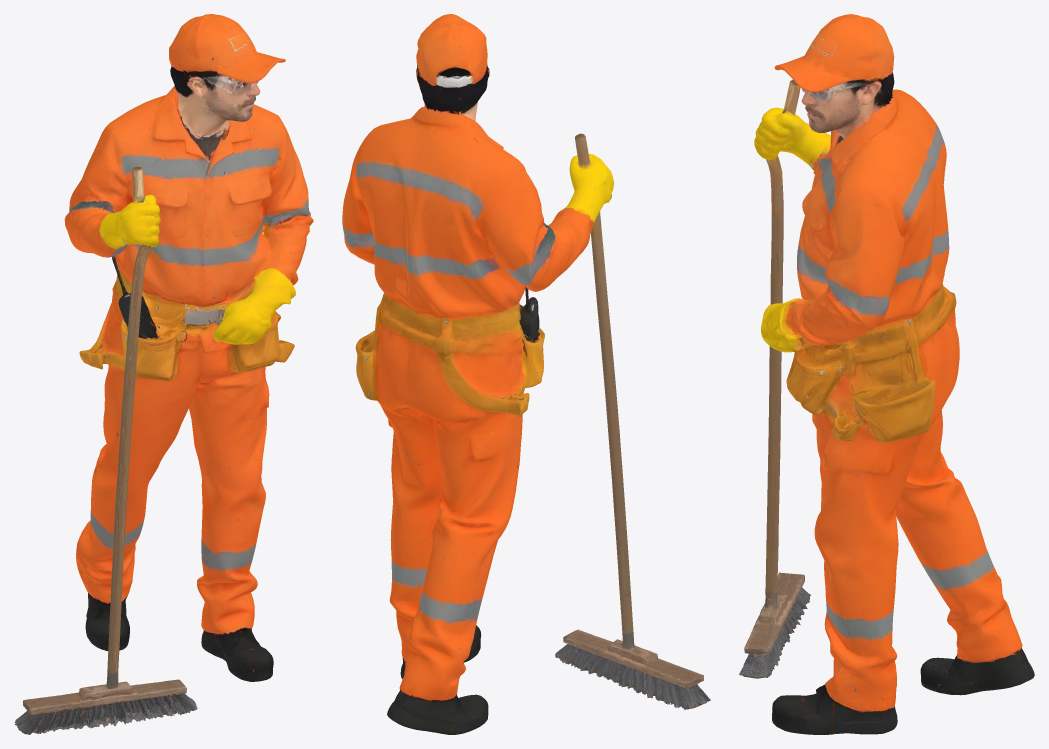
File: worker-coverall-broom.glb
3 renders of one model, left to right at view 1: azimuth 30°, elevation 25°; view 2: azimuth 150°, elevation 25°; view 3: azimuth 270°, elevation 25°, orthographic. The views are drawn at different scales.
Visible parts, largest first — view 1: Object_7, Object_5, Object_6; view 2: Object_6, Object_5, Object_7; view 3: Object_6, Object_5, Object_7.
Boxes of the visible parts, x1,y1,x2,y2 form: Object_7: (14, 45, 313, 727); Object_5: (14, 14, 311, 734); Object_6: (64, 14, 308, 653); Object_6: (342, 15, 588, 734); Object_5: (342, 14, 710, 708); Object_7: (417, 28, 703, 709); Object_6: (807, 14, 1034, 734); Object_5: (739, 15, 920, 734); Object_7: (760, 50, 864, 734).
Size of the model in its own units: 0.999 by 1.9 by 0.7286.
Materials: 1 (1 with a texture image).
